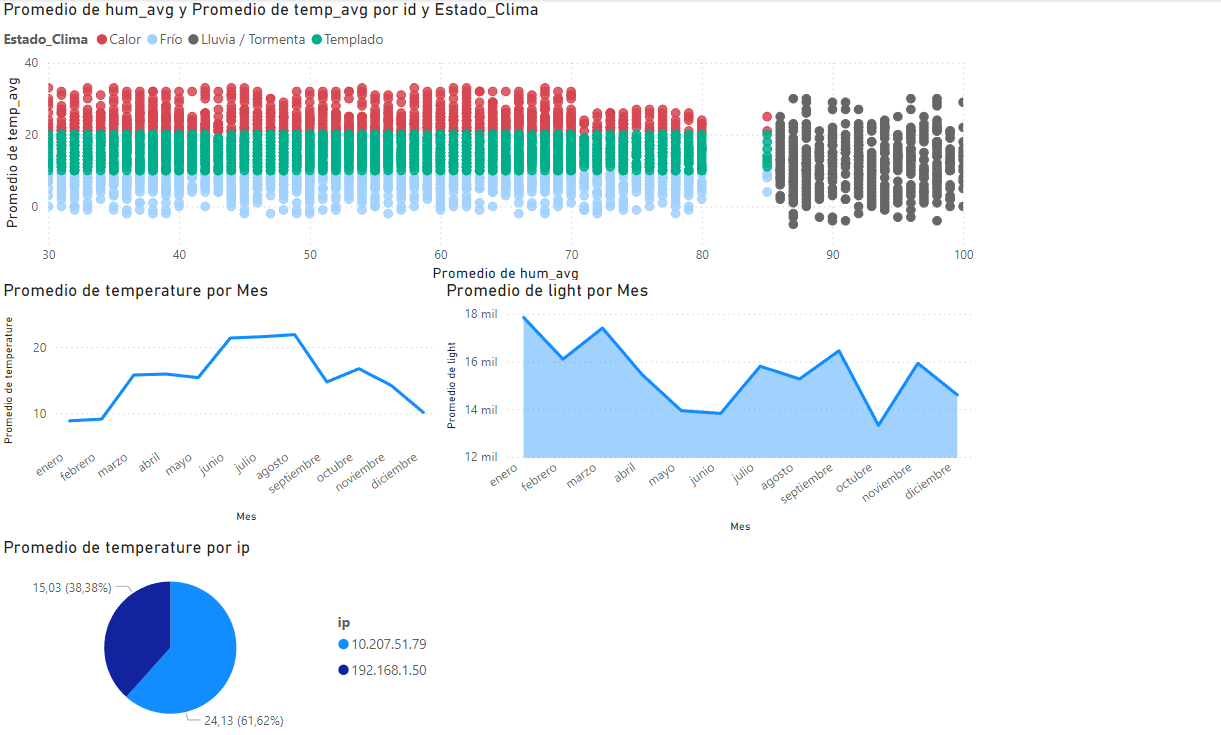

Layout of this report page (visuals, bound fields, positions):
{"tool":"powerbi","page":{"name":"Página 2","canvas":[1280,720],"ordinal":0},"visuals":[{"type":"scatterChart","fields":{"X":["Avg(metricas_kpi_gold.hum_avg)"],"Y":["Avg(metricas_kpi_gold.temp_avg)"],"Category":["metricas_kpi_gold.id"],"Series":["metricas_kpi_gold.Estado_Clima"]},"box":[0,0,953.8,280],"z":0},{"type":"areaChart","fields":{"Category":["datos_principales_silver.timestamp.Variación.Jerarquía de fechas.Mes"],"Y":["Avg(datos_principales_silver.light)"]},"box":[431.2,273.8,522.5,250],"z":1},{"type":"lineChart","fields":{"Category":["datos_principales_silver.timestamp.Variación.Jerarquía de fechas.Mes"],"Y":["Avg(datos_principales_silver.temperature)"]},"box":[0,273.8,431.2,240],"z":2},{"type":"pieChart","fields":{"Y":["Avg(datos_principales_silver.temperature)"],"Category":["datos_principales_silver.ip"]},"box":[0,523.8,431.2,196.2],"z":3}]}

Visuals, with their boxes on the page's 1280x720 design canvas (x1, y1, x2, y2). These are canvas units, not pixel positions in the 1221x735 screenshot, which may show the page scaled, cropped or inside an application window:
scatterChart - Avg(metricas_kpi_gold.hum_avg) x Avg(metricas_kpi_gold.temp_avg): <box>0,0,954,280</box>
areaChart - datos_principales_silver.timestamp.Variación.Jerarquía de fechas.Mes x Avg(datos_principales_silver.light): <box>431,274,954,524</box>
lineChart - datos_principales_silver.timestamp.Variación.Jerarquía de fechas.Mes x Avg(datos_principales_silver.temperature): <box>0,274,431,514</box>
pieChart - Avg(datos_principales_silver.temperature) x datos_principales_silver.ip: <box>0,524,431,720</box>
